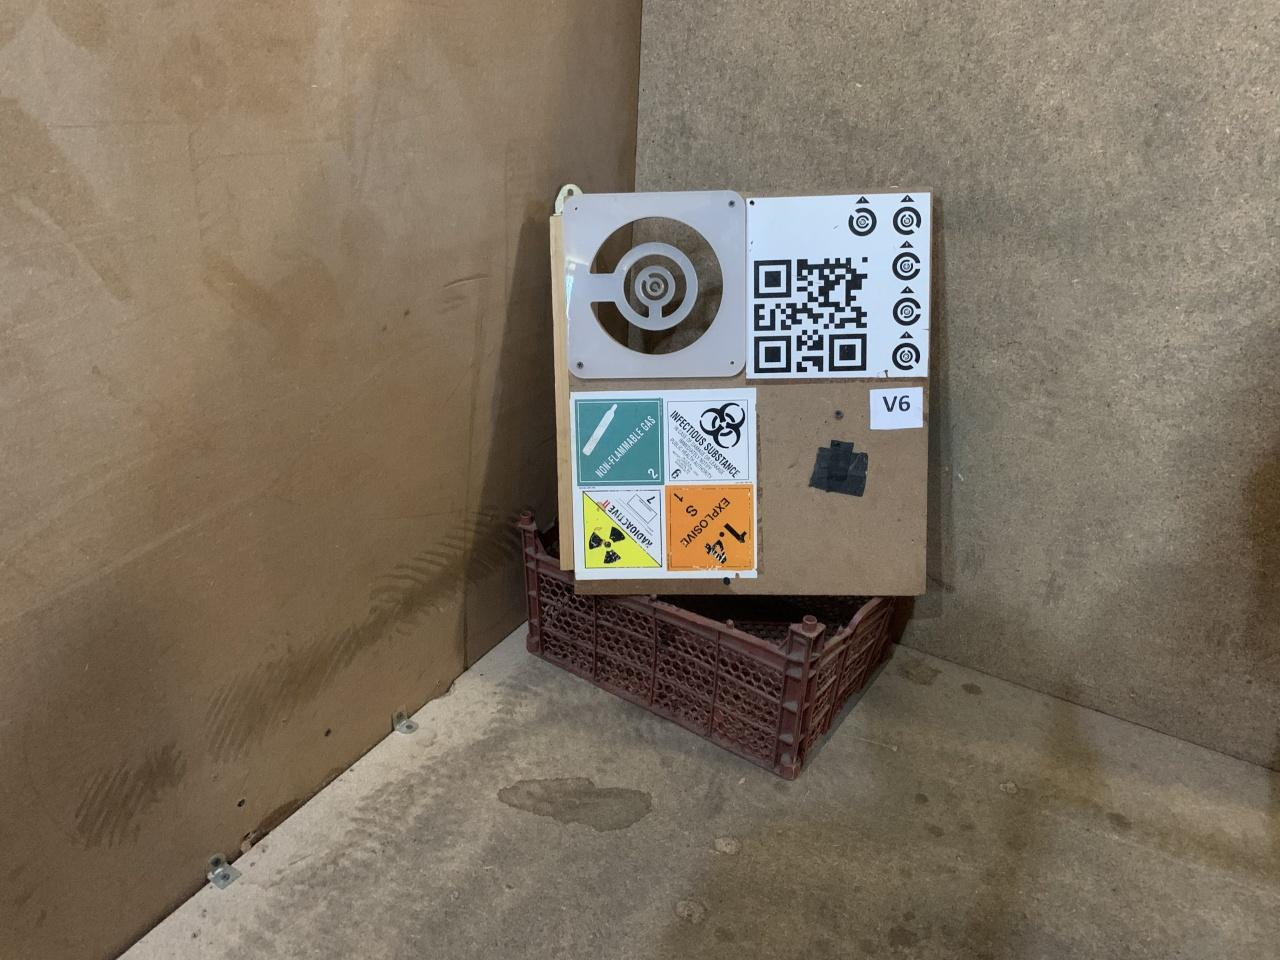explosive: (668, 485, 755, 573)
infectious-substance: (665, 395, 754, 484)
non-flammable-gas: (575, 398, 664, 488)
radioactive: (581, 489, 665, 571)
